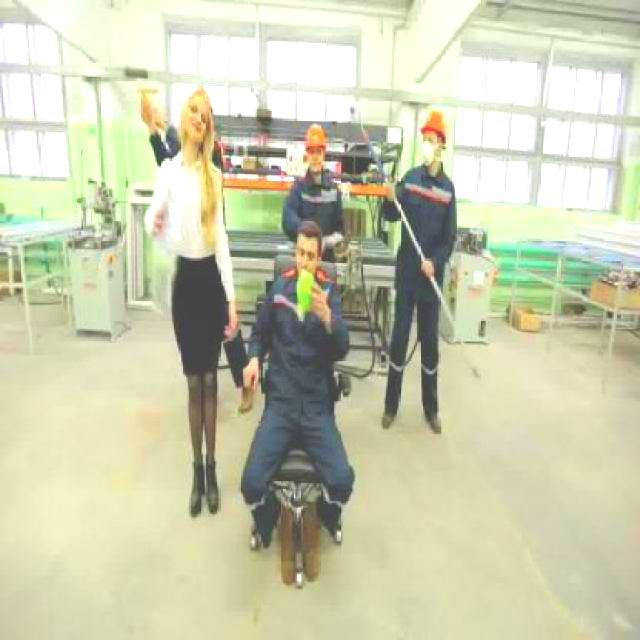Helmet: (419, 110, 448, 144), (304, 122, 326, 146)
Mask: (243, 281, 354, 527), (380, 166, 458, 420), (276, 164, 349, 261)
